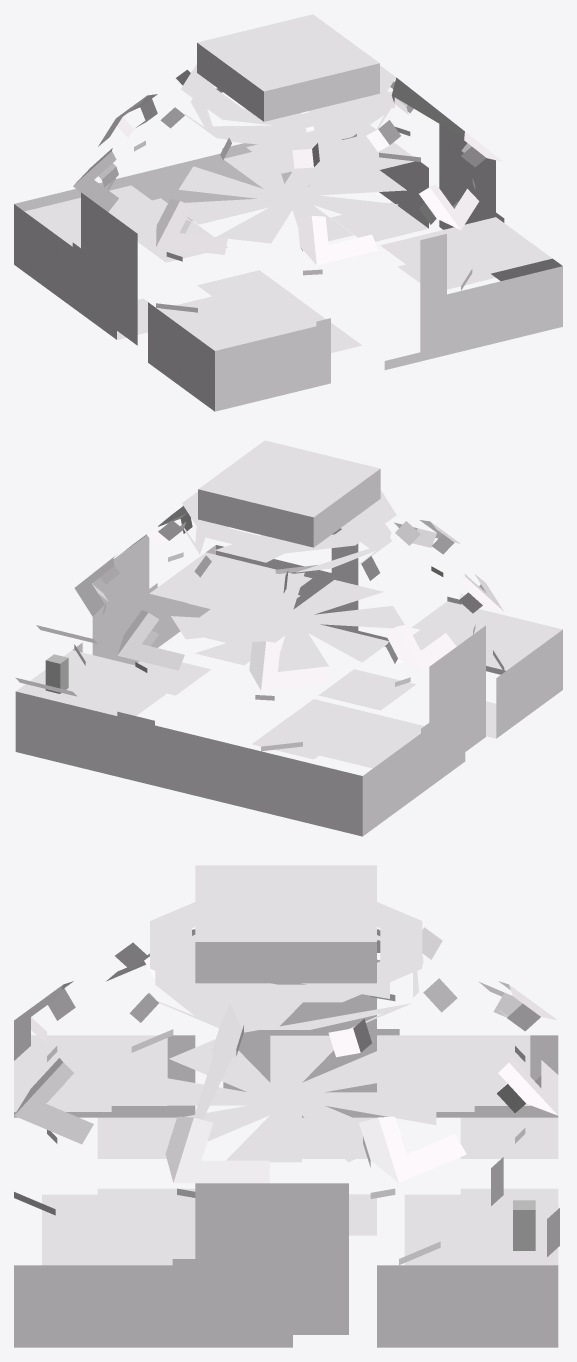
File: separator.obj
The picture shows the model from 3 angles, top to bottom: view 1: azimuth 30°, elevation 25°; view 2: azimuth 150°, elevation 25°; view 3: azimuth 270°, elevation 25°; orthographic projection. The views are drawn at different scales.
Parts seen in each view (by area): view 1: base, frame, input_port; view 2: base, frame, input_port, support, screen; view 3: base, frame, input_port, support, screen.
Boxes of the visible parts, left/top/right/bottom form: base: left=14, top=124, right=562, bottom=411; frame: left=73, top=64, right=503, bottom=312; input_port: left=197, top=14, right=379, bottom=121; base: left=15, top=528, right=562, bottom=836; frame: left=74, top=490, right=504, bottom=751; input_port: left=198, top=440, right=380, bottom=547; support: left=45, top=654, right=68, bottom=693; screen: left=15, top=625, right=97, bottom=696; base: left=14, top=983, right=558, bottom=1347; frame: left=14, top=902, right=558, bottom=1264; input_port: left=195, top=865, right=376, bottom=983; support: left=513, top=1200, right=535, bottom=1250; screen: left=491, top=1157, right=559, bottom=1256.
Size of the model in its own units: 3 by 2 by 3.03.
